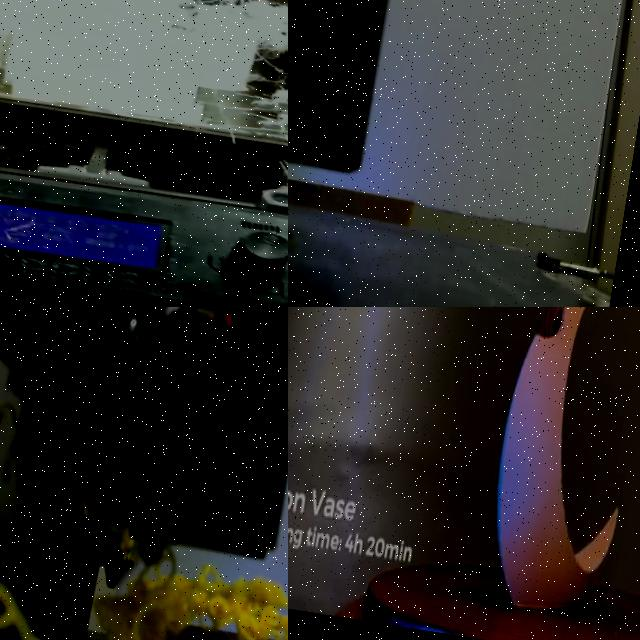spaghetti: (0, 0, 288, 146), (97, 567, 288, 640)
